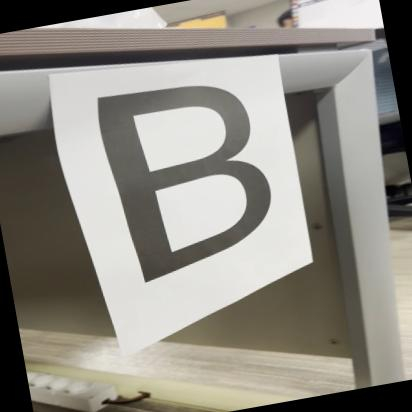seat: (74, 55, 290, 307)
